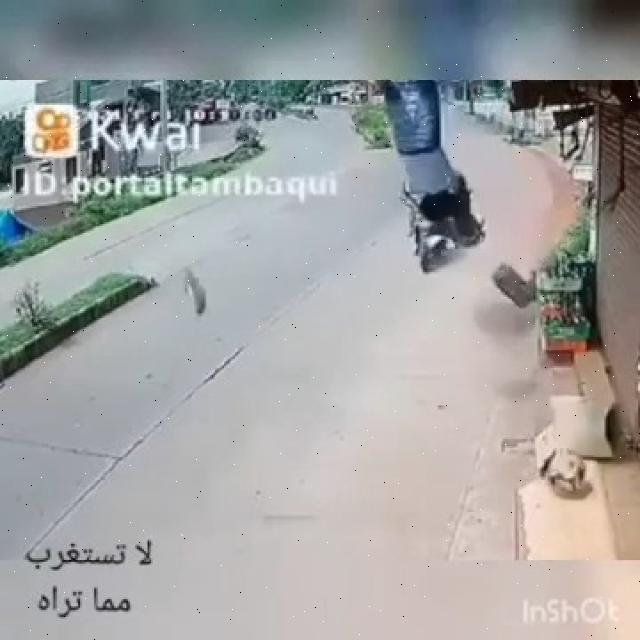accident: (386, 84, 488, 274)
